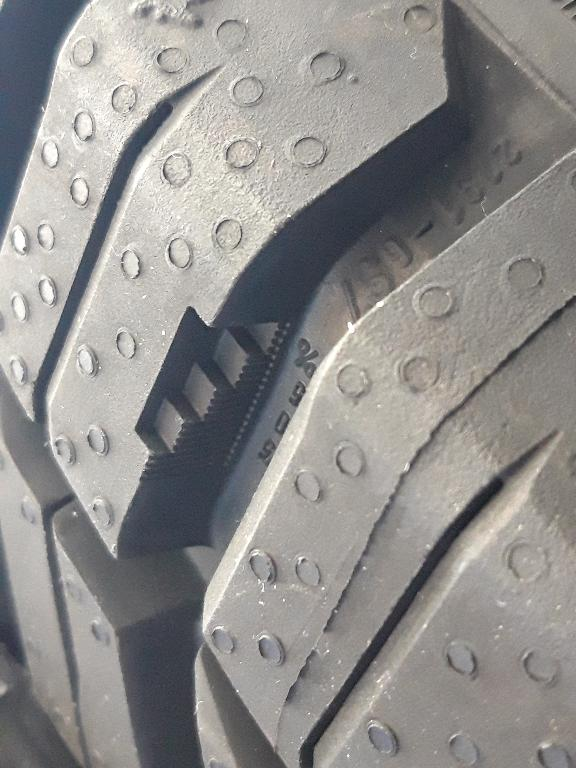temoin:100: (123, 300, 302, 488)
